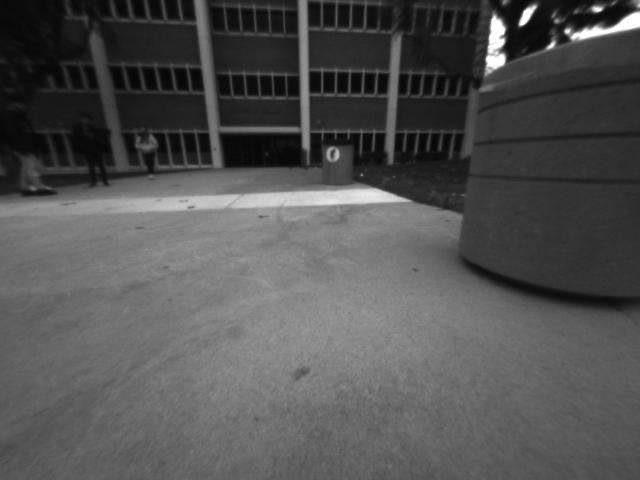trashcan: (319, 143, 357, 195)
